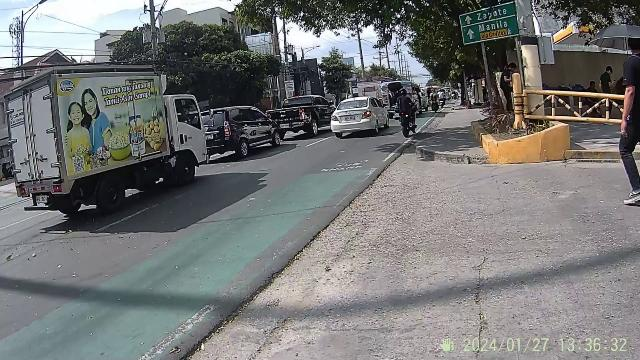street_sign: (458, 0, 518, 108)
